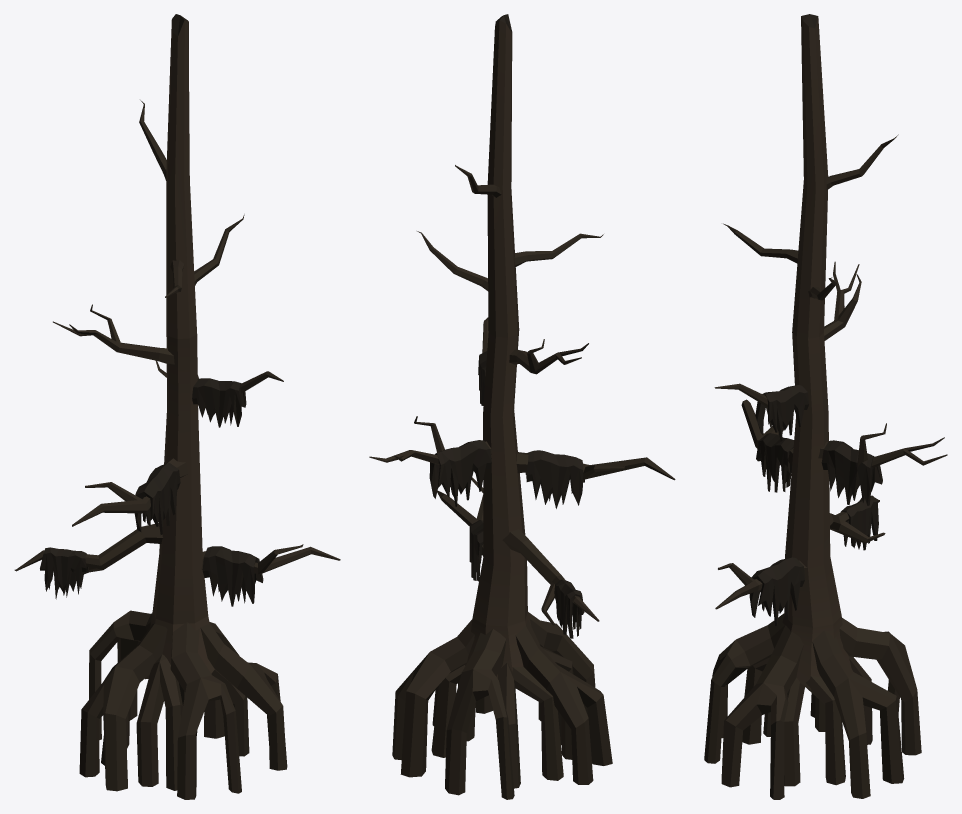
The model's file is synty-tree-swamp-02.gltf.
3 views of the same model, side by side, from view 1: azimuth 30°, elevation 25°; view 2: azimuth 150°, elevation 25°; view 3: azimuth 270°, elevation 25° (orthographic).
Visible parts, largest first — view 1: SM_Tree_Swamp_02; view 2: SM_Tree_Swamp_02; view 3: SM_Tree_Swamp_02.
Part boxes in pixels (left/top/right/bottom): SM_Tree_Swamp_02: left=14, top=14, right=340, bottom=799; SM_Tree_Swamp_02: left=369, top=14, right=675, bottom=799; SM_Tree_Swamp_02: left=704, top=14, right=947, bottom=799.
Size of the model in its own units: 2.65 by 7.42 by 2.2.
Materials: 1 (1 with a texture image).
